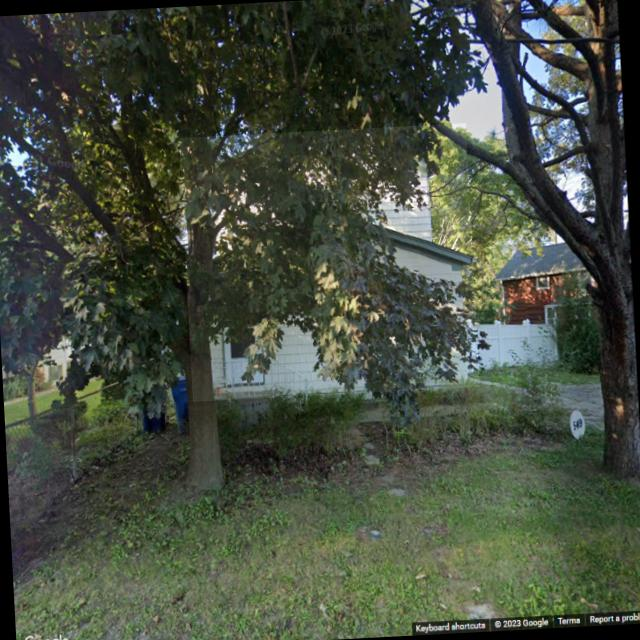House: (179, 124, 480, 402)
